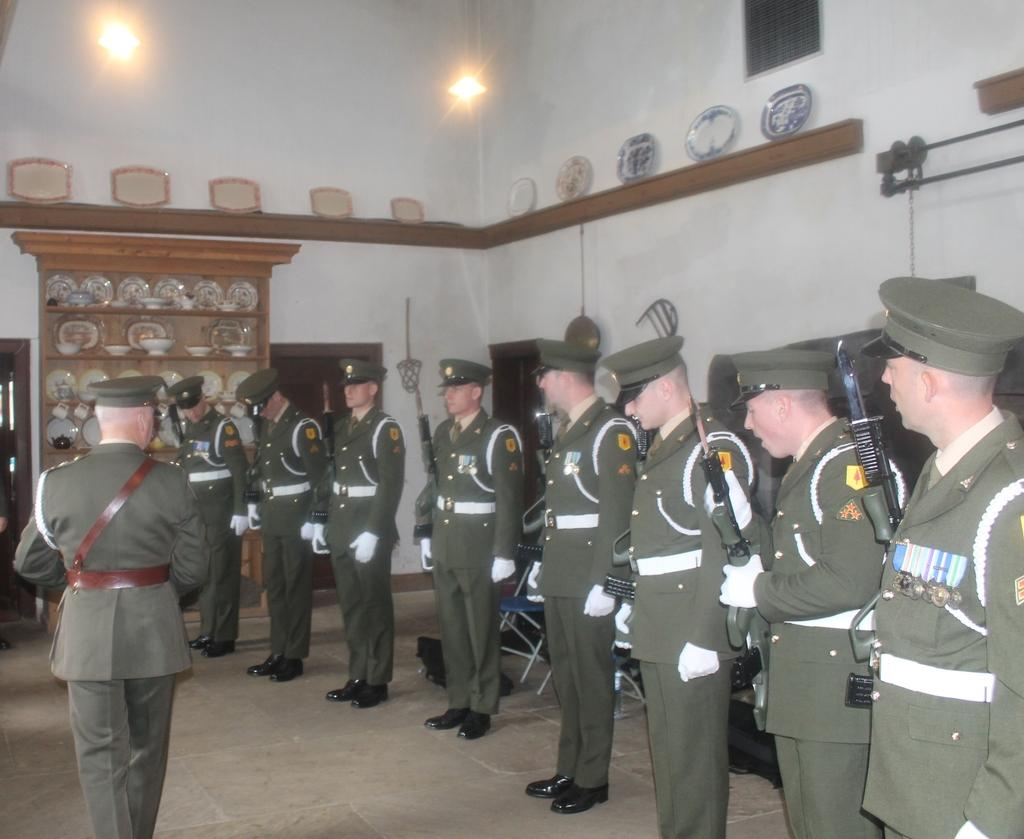Hat: (864, 278, 1023, 379), (728, 350, 846, 412), (598, 334, 686, 392), (89, 376, 171, 407), (532, 341, 598, 377), (235, 368, 280, 420), (431, 357, 494, 390), (338, 359, 390, 386), (174, 380, 206, 409)
